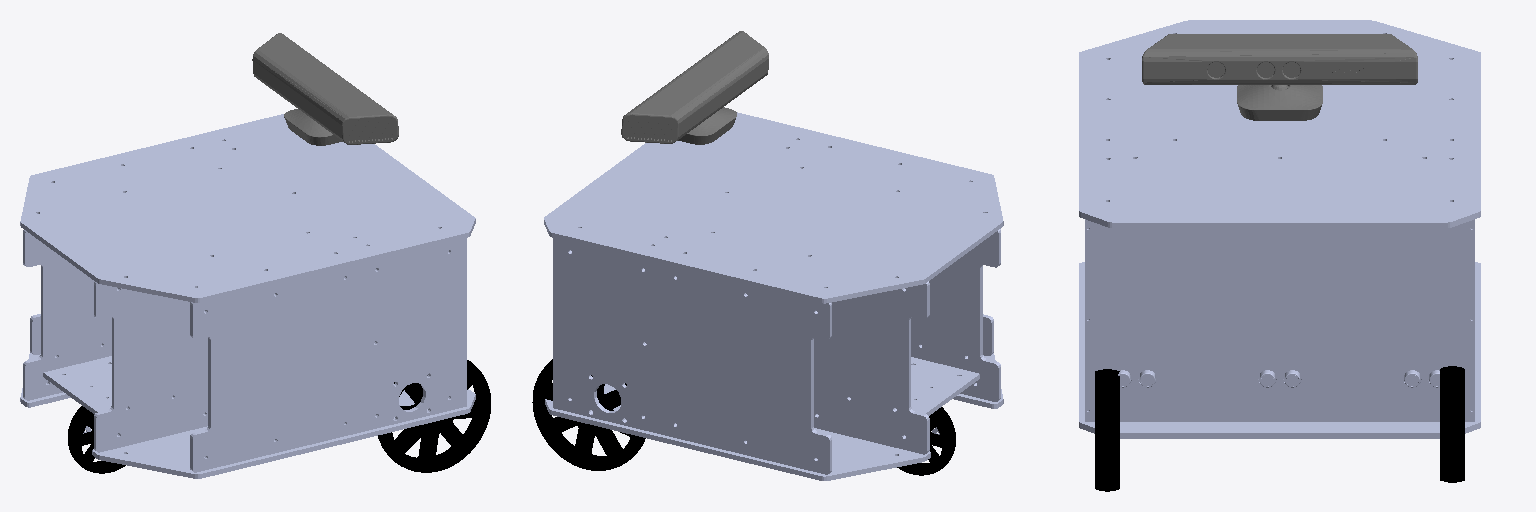
URDF robot description (johnny5):
<robot
  name="johnny5">
  <link
    name="base_link">
    <inertial>
      <origin
        xyz="-0.0129466921025274 1.46986945614991E-07 0.0430096437927198"
        rpy="0 0 0" />
      <mass
        value="0.309217597051306" />
      <inertia
        ixx="0.00516250892922132"
        ixy="-1.10618839551138E-06"
        ixz="-0.000132244590333623"
        iyy="0.00452034216373148"
        iyz="1.1588407691732E-06"
        izz="0.00408494642964707" />
    </inertial>
    <visual>
      <origin
        xyz="0 0 0"
        rpy="0 0 0" />
      <geometry>
        <mesh
          filename="package://johnny5_description/meshes/base_link.STL" />
      </geometry>
      <material
        name="">
        <color
          rgba="0.792156862745098 0.819607843137255 0.933333333333333 1" />
      </material>
    </visual>
    <collision>
      <origin
        xyz="0 0 0"
        rpy="0 0 0" />
      <geometry>
        <mesh
          filename="package://johnny5_description/meshes/base_link.STL" />
      </geometry>
    </collision>
  </link>
  <link
    name="base_kinect">
    <inertial>
      <origin
        xyz="-0.0144388322715321 9.94166362184856E-05 0.0450718586997779"
        rpy="0 0 0" />
      <mass
        value="0.658662598935644" />
      <inertia
        ixx="0.00313393147092216"
        ixy="9.16473098477376E-07"
        ixz="-3.61409355768333E-06"
        iyy="0.000417773284985501"
        iyz="3.46681584580767E-07"
        izz="0.00311195503072936" />
    </inertial>
    <visual>
      <origin
        xyz="0 0 0"
        rpy="0 0 0" />
      <geometry>
        <mesh
          filename="package://johnny5_description/meshes/base_kinect.STL" />
      </geometry>
      <material
        name="">
        <color
          rgba="0.494117647058824 0.494117647058824 0.494117647058824 1" />
      </material>
    </visual>
    <collision>
      <origin
        xyz="0 0 0"
        rpy="0 0 0" />
      <geometry>
        <mesh
          filename="package://johnny5_description/meshes/base_kinect.STL" />
      </geometry>
    </collision>
  </link>
  <joint
    name="joint_kinect"
    type="fixed">
    <origin
      xyz="0 0 0.2794"
      rpy="-6.6305E-32 6.983E-15 0" />
    <parent
      link="base_link" />
    <child
      link="base_kinect" />
    <axis
      xyz="0 0 1" />
  </joint>
  <link
    name="left_wheel_link">
    <inertial>
      <origin
        xyz="-3.15771336107523E-06 -0.00514907589975609 -6.10634417752554E-07"
        rpy="0 0 0" />
      <mass
        value="0.185470907594953" />
      <inertia
        ixx="0.000343488408327717"
        ixy="6.6249708796195E-09"
        ixz="-7.83273969562423E-10"
        iyy="0.000675685632439309"
        iyz="1.3152736589645E-09"
        izz="0.000343484509398272" />
    </inertial>
    <visual>
      <origin
        xyz="0 0 0"
        rpy="0 0 0" />
      <geometry>
        <mesh
          filename="package://johnny5_description/meshes/left_wheel_link.STL" />
      </geometry>
      <material
        name="">
        <color
          rgba="0 0 0 1" />
      </material>
    </visual>
    <collision>
      <origin
        xyz="0 0 0"
        rpy="0 0 0" />
      <geometry>
        <mesh
          filename="package://johnny5_description/meshes/left_wheel_link.STL" />
      </geometry>
    </collision>
  </link>
  <joint
    name="left_wheel_joint"
    type="continuous">
    <origin
      xyz="0.036266 0.17909 -0.032293"
      rpy="-4.7995E-30 6.983E-15 0" />
    <parent
      link="base_link" />
    <child
      link="left_wheel_link" />
    <axis
      xyz="0 1 0" />
  </joint>
  <link
    name="right_wheel_link">
    <inertial>
      <origin
        xyz="1.89298974090368E-06 0.00514907589975605 -2.60011881816902E-06"
        rpy="0 0 0" />
      <mass
        value="0.18547090759495" />
      <inertia
        ixx="0.000343485813540276"
        ixy="3.94825849640994E-09"
        ixz="1.99937225415519E-09"
        iyy="0.000675685632439299"
        iyz="-5.48009478014485E-09"
        izz="0.000343487104185704" />
    </inertial>
    <visual>
      <origin
        xyz="0 0 0"
        rpy="0 0 0" />
      <geometry>
        <mesh
          filename="package://johnny5_description/meshes/right_wheel_link.STL" />
      </geometry>
      <material
        name="">
        <color
          rgba="0 0 0 1" />
      </material>
    </visual>
    <collision>
      <origin
        xyz="0 0 0"
        rpy="0 0 0" />
      <geometry>
        <mesh
          filename="package://johnny5_description/meshes/right_wheel_link.STL" />
      </geometry>
    </collision>
  </link>
  <joint
    name="right_wheel_joint"
    type="continuous">
    <origin
      xyz="0.042643 -0.17909 -0.039052"
      rpy="-4.7995E-30 6.983E-15 0" />
    <parent
      link="base_link" />
    <child
      link="right_wheel_link" />
    <axis
      xyz="0 -1 0" />
  </joint>
  <link
    name="rear_caster_link">
    <inertial>
      <origin
        xyz="-0.0269129567673109 6.31139243040812E-05 -0.0485106938792523"
        rpy="0 0 0" />
      <mass
        value="0.0177867839089274" />
      <inertia
        ixx="1.55753406989563E-05"
        ixy="-2.24523759266378E-08"
        ixz="7.92774909345852E-06"
        iyy="1.97520175379044E-05"
        iyz="-2.29158619121046E-08"
        izz="1.53958205796652E-05" />
    </inertial>
    <visual>
      <origin
        xyz="0 0 0"
        rpy="0 0 0" />
      <geometry>
        <mesh
          filename="package://johnny5_description/meshes/rear_caster_link.STL" />
      </geometry>
      <material
        name="">
        <color
          rgba="0.792156862745098 0.819607843137255 0.933333333333333 1" />
      </material>
    </visual>
    <collision>
      <origin
        xyz="0 0 0"
        rpy="0 0 0" />
      <geometry>
        <mesh
          filename="package://johnny5_description/meshes/rear_caster_link.STL" />
      </geometry>
    </collision>
  </link>
  <joint
    name="rear_caster_joint"
    type="continuous">
    <origin
      xyz="-0.2667 0 0.0149859999999995"
      rpy="-4.79947081528445E-30 6.98296267768626E-15 0" />
    <parent
      link="base_link" />
    <child
      link="rear_caster_link" />
    <axis
      xyz="0 0 -1" />
  </joint>
  <link
    name="rear_wheel_link">
    <inertial>
      <origin
        xyz="-2.77555756156289E-16 0.00317500000000004 1.66533453693773E-16"
        rpy="0 0 0" />
      <mass
        value="0.0761486138405399" />
      <inertia
        ixx="7.00186808106294E-05"
        ixy="7.04759108753428E-12"
        ixz="-2.96109858367634E-20"
        iyy="0.000134726177971152"
        iyz="-6.61112545777978E-12"
        izz="7.00186808106294E-05" />
    </inertial>
    <visual>
      <origin
        xyz="0 0 0"
        rpy="0 0 0" />
      <geometry>
        <mesh
          filename="package://johnny5_description/meshes/rear_wheel_link.STL" />
      </geometry>
      <material
        name="">
        <color
          rgba="0 0 0 1" />
      </material>
    </visual>
    <collision>
      <origin
        xyz="0 0 0"
        rpy="0 0 0" />
      <geometry>
        <mesh
          filename="package://johnny5_description/meshes/rear_wheel_link.STL" />
      </geometry>
    </collision>
  </link>
  <joint
    name="rear_wheel_joint"
    type="continuous">
    <origin
      xyz="-0.046973 -0.003556 -0.069063"
      rpy="0 0 0" />
    <parent
      link="rear_caster_link" />
    <child
      link="rear_wheel_link" />
    <axis
      xyz="0 1 0" />
  </joint>
</robot>

--- Render facts (derived) ---
3 views of the same robot in one strip: view 1: azimuth 30°, elevation 25°; view 2: azimuth 150°, elevation 25°; view 3: azimuth 270°, elevation 25° (orthographic).
Model johnny5 with 6 links and 5 joints (4 continuous, 1 fixed), rooted at base_link, posed every joint at zero.
Links seen in each view (by area): view 1: base_link, base_kinect, right_wheel_link, rear_wheel_link; view 2: base_link, base_kinect, left_wheel_link, rear_wheel_link; view 3: base_link, base_kinect, right_wheel_link, left_wheel_link.
Boxes of the visible links, left/top/right/bottom form: base_link: left=20, top=114, right=475, bottom=478; base_kinect: left=252, top=33, right=398, bottom=145; right_wheel_link: left=378, top=360, right=490, bottom=472; rear_wheel_link: left=68, top=406, right=125, bottom=473; base_link: left=544, top=112, right=1003, bottom=480; base_kinect: left=621, top=31, right=768, bottom=144; left_wheel_link: left=532, top=359, right=645, bottom=470; rear_wheel_link: left=897, top=407, right=955, bottom=475; base_link: left=1079, top=20, right=1480, bottom=438; base_kinect: left=1142, top=34, right=1417, bottom=120; right_wheel_link: left=1095, top=369, right=1119, bottom=491; left_wheel_link: left=1440, top=366, right=1464, bottom=482.
Size in the robot's own frame: 0.498 by 0.4064 by 0.4663 metres.
Meshes: 6 distinct files referenced, 6 mesh visuals loaded (6 binary STL).
